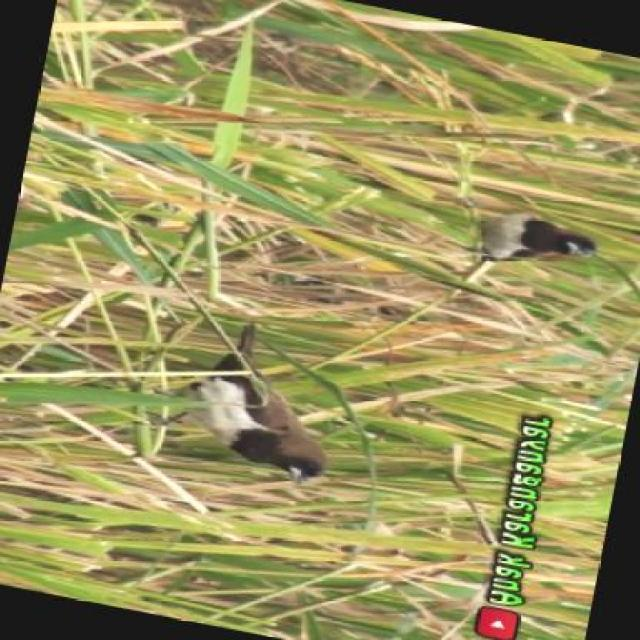Bird: (169, 309, 335, 502), (471, 199, 606, 282)
